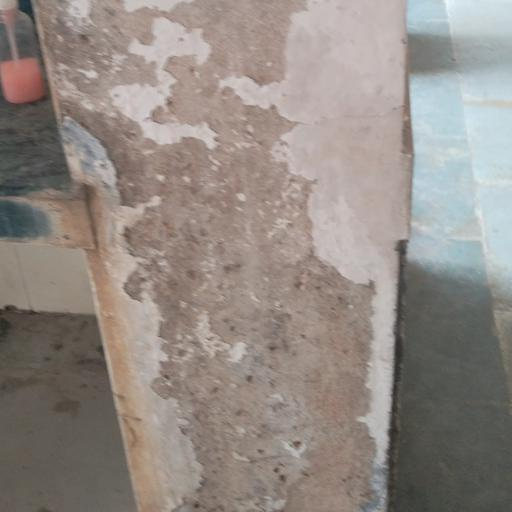spalling: (37, 0, 389, 511)
